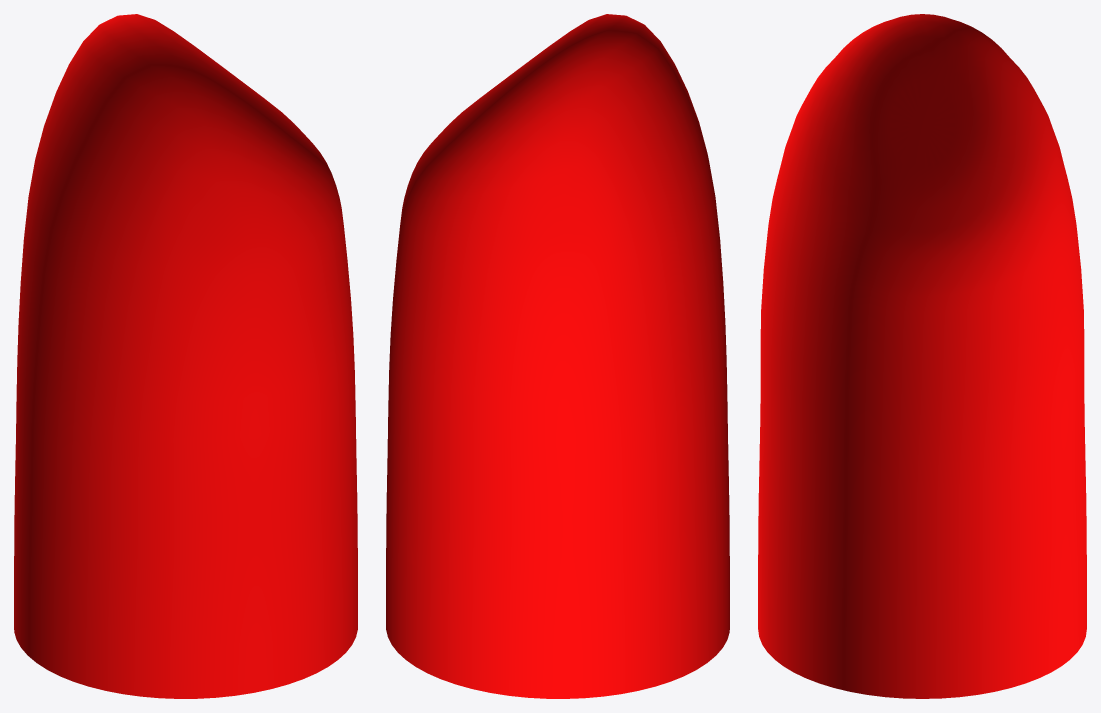
File: lipstick.obj
The picture shows the model from 3 angles, left to right: view 1: azimuth 30°, elevation 25°; view 2: azimuth 150°, elevation 25°; view 3: azimuth 270°, elevation 25°; orthographic projection. The views are drawn at different scales.
Visible parts, largest first — view 1: obj2; view 2: obj2; view 3: obj2.
Boxes of the visible parts, box(x1,y1,x2,y2) form: obj2: box(14, 14, 357, 698); obj2: box(386, 14, 729, 698); obj2: box(758, 14, 1086, 698).
Size of the model in its own units: 0.3396 by 0.6661 by 0.3365.
1 material, 1 textured.
